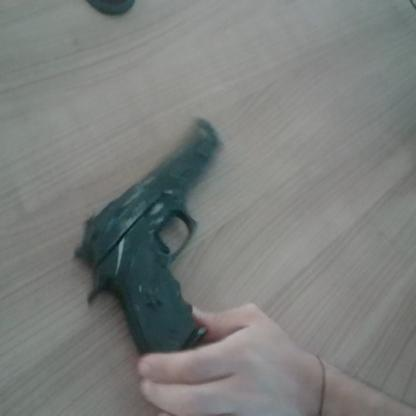handgun: (83, 108, 243, 374)
